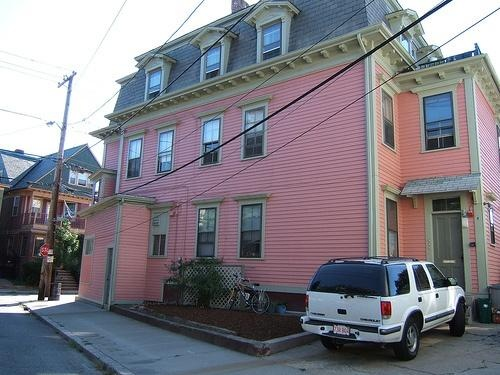bicycle: (224, 276, 270, 315)
car: (300, 256, 472, 365)
